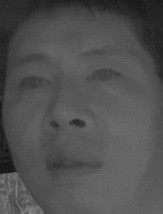eye: (85, 63, 125, 89), (16, 73, 53, 94)
mouth: (39, 145, 106, 188)
